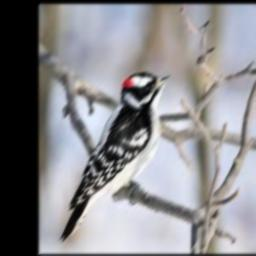Woodpecker: (60, 72, 173, 242)
